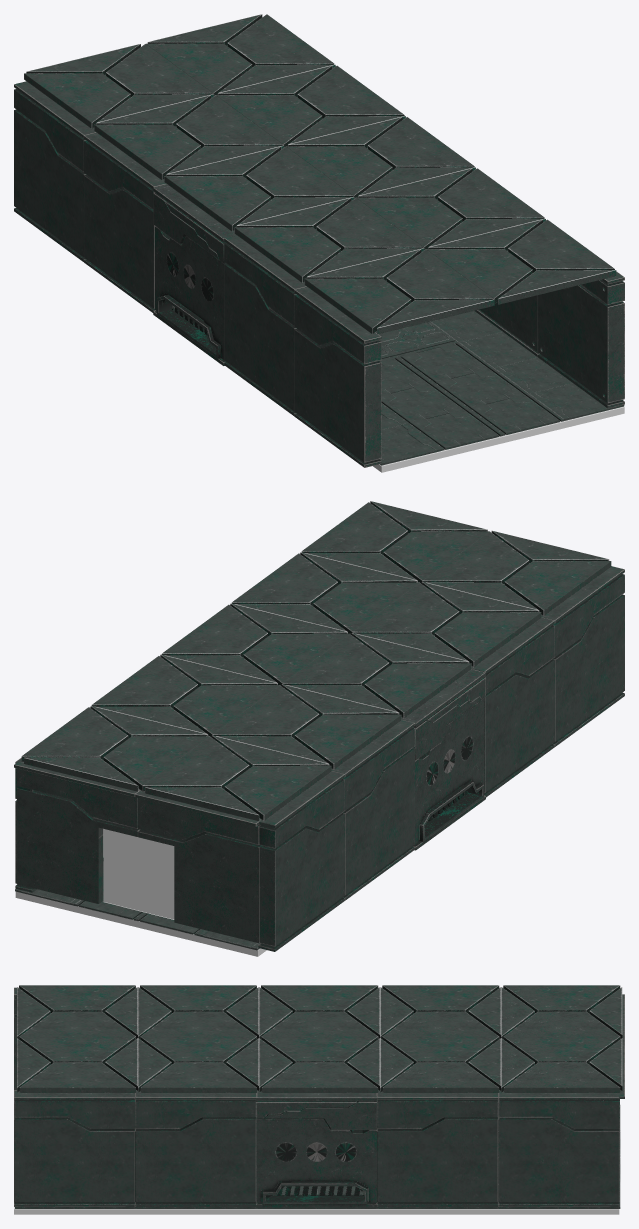
The model's file is InitialLevelText.fbx.
The picture shows the model from 3 angles, top to bottom: view 1: azimuth 30°, elevation 25°; view 2: azimuth 150°, elevation 25°; view 3: azimuth 270°, elevation 25°; orthographic projection. The views are drawn at different scales.
Parts seen in each view (by area): view 1: Techo02.005, Panel03low.002, Piso02.011, Panel05low.004; view 2: Techo02.005, Panel03low.002, Panel05low.008, P_Triangulos_low, Piso02.011; view 3: Panel05low.004, Techo02.005, Piso02.011, Panel05low.008.
Part boxes in pixels (x1,y1,x2,y2): Techo02.005: [24, 14, 616, 334]; Panel03low.002: [14, 81, 381, 467]; Piso02.011: [341, 251, 624, 472]; Panel05low.004: [474, 220, 624, 408]; Techo02.005: [21, 501, 611, 821]; Panel03low.002: [258, 566, 624, 951]; Panel05low.008: [14, 759, 260, 942]; P_Triangulos_low: [103, 829, 174, 919]; Piso02.011: [15, 889, 266, 956]; Panel05low.004: [14, 1090, 619, 1207]; Techo02.005: [17, 985, 622, 1092]; Piso02.011: [14, 1105, 620, 1214]; Panel05low.008: [602, 994, 624, 1201].
Size of the model in its own units: 873 by 453 by 2018.
